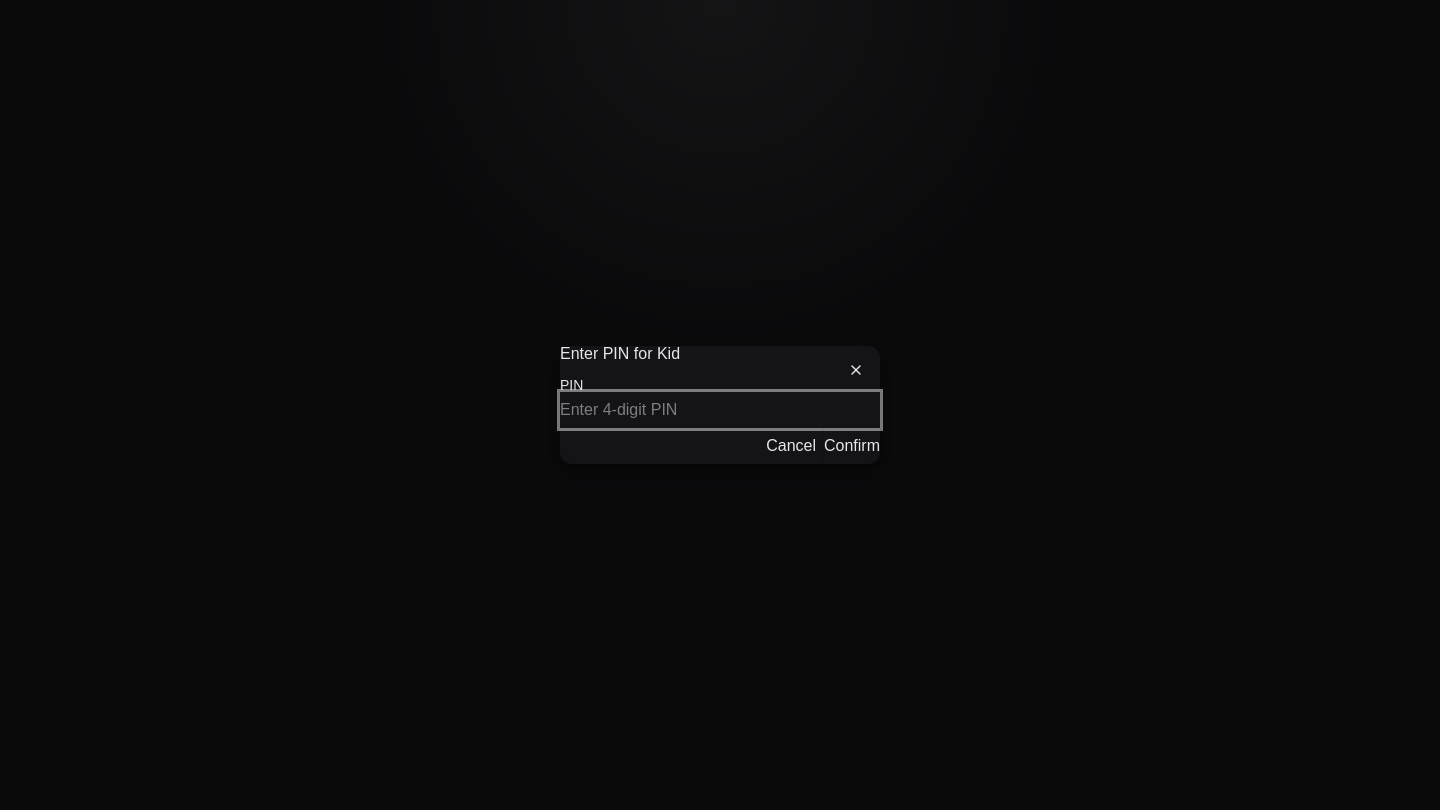
ProfilePinDialog › says the PIN was wrong when the server answers valid false
The width and height of the screenshot is (1440, 810).
In the password field labelled "PIN": (720, 410) [560,392,880,428], type "0000"
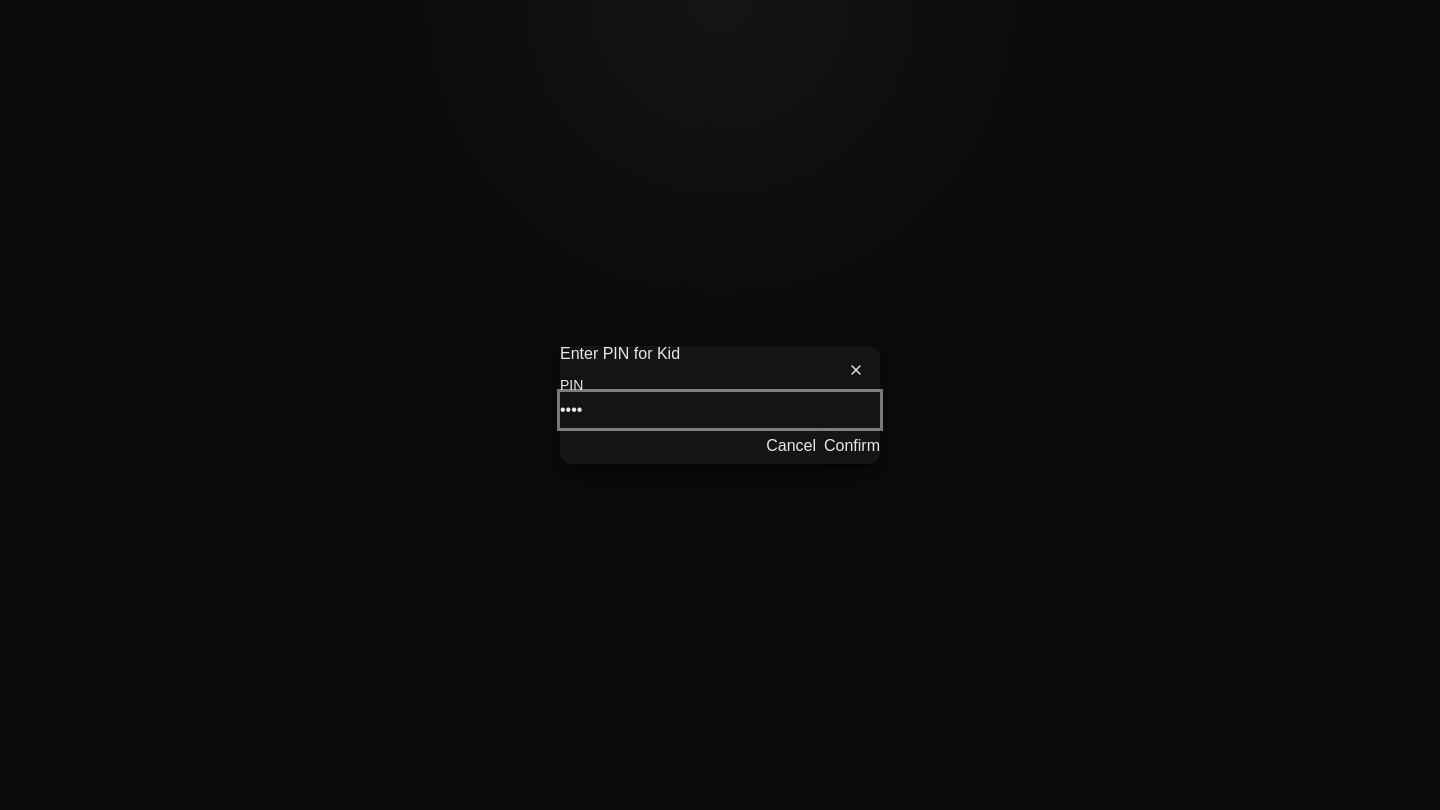
Click the button "Confirm": (852, 446) [824,428,880,464]
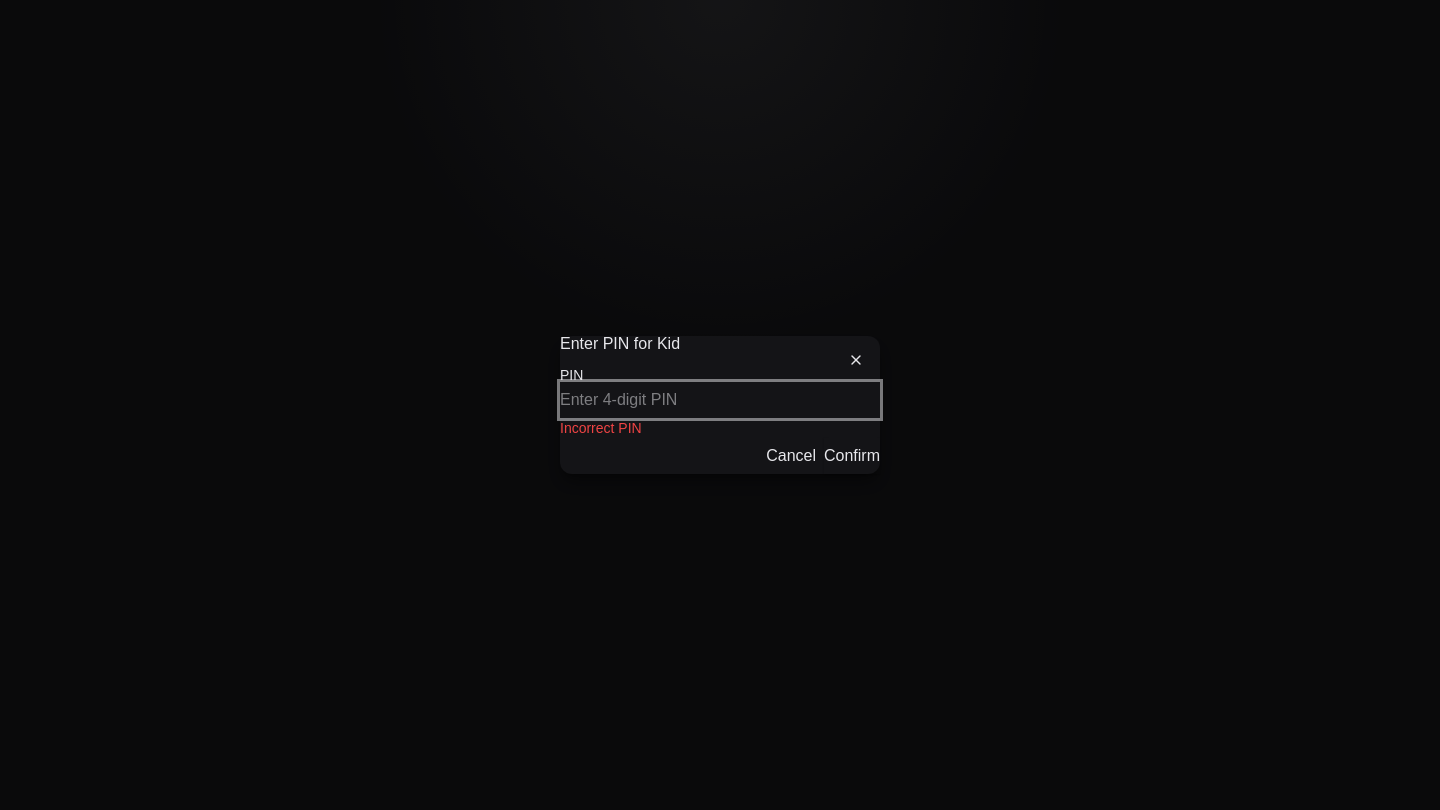
expect the text "Incorrect PIN" is shown: met, box [560,420,642,436]
